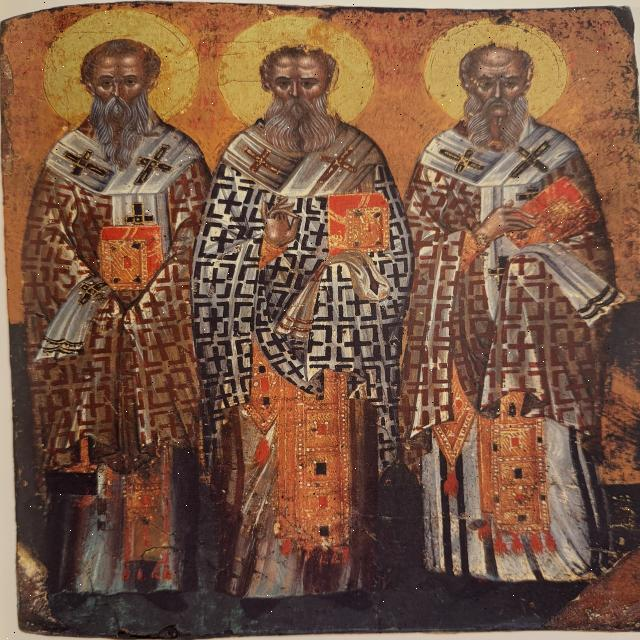aura: (40, 10, 203, 128), (217, 15, 377, 135), (426, 19, 570, 132)
book: (507, 174, 602, 260), (96, 226, 168, 295), (323, 195, 393, 259)
christ_hand: (245, 193, 311, 271)
church_father: (401, 18, 629, 598), (211, 13, 422, 601), (18, 9, 218, 599)
